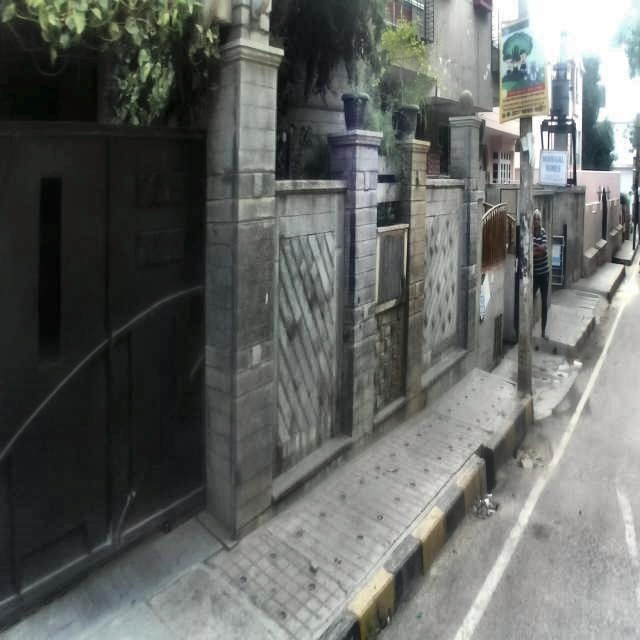Pothole: (514, 422, 562, 520)
